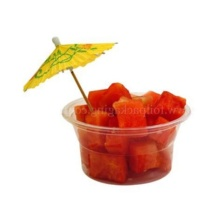glass: (50, 86, 202, 186)
